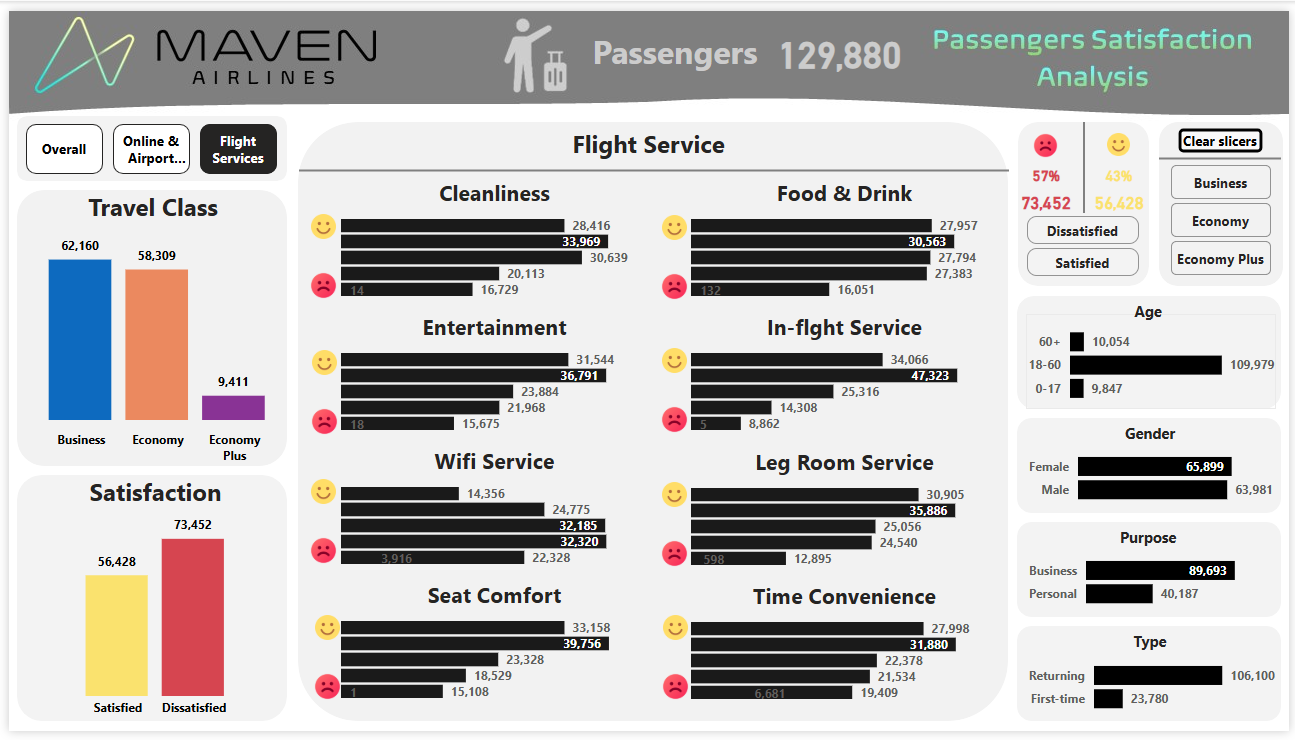

This screenshot's page, from the dashboard's own definition file:
{"tool":"powerbi","page":{"name":"Flight Services","canvas":[1280,720],"ordinal":2},"visuals":[{"type":"shape","box":[289,111,710,599],"z":1000},{"type":"shape","box":[8,179,270,276],"z":2000},{"type":"columnChart","title":"Travel Class","fields":{"Category":["Data.Class"],"Y":["_Measures.Total Passengers"]},"box":[0,179,289,276],"z":3000},{"type":"textbox","box":[505,111,270,48],"z":4000},{"type":"card","fields":{"Values":["_Measures.Total Passengers"]},"box":[751,12,159,58],"z":5000},{"type":"shape","box":[1008,615,264,95],"z":6000},{"type":"barChart","fields":{"Category":["Data.Customer Type"],"Y":["_Measures.Total Passengers"]},"box":[1017,625,250,95],"z":7000},{"type":"textbox","box":[1103,615,77,36],"z":8000},{"type":"shape","box":[1008,511,264,95],"z":9000},{"type":"shape","box":[1008,407,264,95],"z":10000},{"type":"shape","box":[1008,285,264,113],"z":11000},{"type":"barChart","fields":{"Category":["Data.Age Range"],"Y":["_Measures.Total Passengers"]},"box":[1017,303,250,95],"z":12000},{"type":"textbox","box":[1101,285,77,36],"z":13000},{"type":"barChart","fields":{"Category":["Data.Gender"],"Y":["_Measures.Total Passengers"]},"box":[1017,416,250,95],"z":14000},{"type":"textbox","box":[573,13,187,58],"z":15000},{"type":"textbox","box":[1101,511,77,36],"z":16000},{"type":"barChart","fields":{"Category":["Data.Type of Travel"],"Y":["_Measures.Total Passengers"]},"box":[1017,520,250,95],"z":17000},{"type":"textbox","box":[1104,407,75,36],"z":18000},{"type":"shape","box":[1150,111,124,164],"z":19000},{"type":"advancedSlicerVisual","fields":{"Values":["Data.Class"]},"box":[1159,151,106,119],"z":20000},{"type":"shape","box":[1009,111,131,164],"z":21000},{"type":"advancedSlicerVisual","fields":{"Values":["Data.Satisfaction"]},"box":[1015,202,118,68],"z":22000},{"type":"barChart","title":"Cleanliness","fields":{"Y":["_Measures.Total Passengers"],"Category":["Data.Cleanliness"]},"box":[331,166,310,120],"z":23000},{"type":"barChart","title":"Food & Drink","fields":{"Y":["_Measures.Total Passengers"],"Category":["Data.Food and Drink"]},"box":[681,166,310,120],"z":24000},{"type":"image","box":[653,204,25,25],"z":25000},{"type":"image","box":[652,262,28,27],"z":26000},{"type":"card","fields":{"Values":["_Measures.Satisfied"]},"box":[1065,178,90,30],"z":27000},{"type":"card","fields":{"Values":["_Measures.% Dissatisfied"]},"box":[997,151,80,30],"z":28000},{"type":"card","fields":{"Values":["_Measures.Dissatisfied"]},"box":[992,178,90,30],"z":29000},{"type":"card","fields":{"Values":["_Measures.% Satisfied"]},"box":[1070,151,80,30],"z":30000},{"type":"image","box":[1024,122,25,25],"z":31000},{"type":"image","box":[1098,122,23,23],"z":32000},{"type":"barChart","title":"Time Convenience","fields":{"Y":["_Measures.Total Passengers"],"Category":["Data.Time Convenience"]},"box":[681,569,310,120],"z":33000},{"type":"barChart","title":"Entertainment","fields":{"Y":["_Measures.Total Passengers"],"Category":["Data.In-flight Entertainment"]},"box":[331,300,310,120],"z":34000},{"type":"barChart","title":"Seat Comfort","fields":{"Y":["_Measures.Total Passengers"],"Category":["Data.Seat Comfort"]},"box":[331,568,310,120],"z":35000},{"type":"barChart","title":"In-flght Service","fields":{"Y":["_Measures.Total Passengers"],"Category":["Data.In-flight Service"]},"box":[681,300.3,310,120],"z":36000},{"type":"shape","box":[1047,111,56,91],"z":38000},{"type":"image","box":[653,337,25,25],"z":39000},{"type":"image","box":[652,395,28,27],"z":40000},{"type":"image","box":[654,604,25,25],"z":41000},{"type":"image","box":[653,662,28,27],"z":42000},{"type":"image","box":[306,604,25,25],"z":43000},{"type":"image","box":[305,662,28,27],"z":44000},{"type":"image","box":[303,339,25,25],"z":45000},{"type":"image","box":[302,397,28,27],"z":46000},{"type":"image","box":[302,203,25,25],"z":47000},{"type":"image","box":[301,261,28,27],"z":48000},{"type":"shape","box":[8,464,270,246],"z":49000},{"type":"columnChart","title":"Satisfaction","fields":{"Category":["Data.Satisfaction"],"Y":["_Measures.Total Passengers"]},"box":[8,464,278,246],"z":50000},{"type":"actionButton","box":[1164,112,95,35],"z":51000},{"type":"shape","box":[1150,136,122,23],"z":52000},{"type":"shape","box":[290,148,710,23],"z":53000},{"type":"shape","box":[8,105,270,65],"z":55000},{"type":"pageNavigator","box":[17,113,252,50],"z":55001},{"type":"barChart","title":"Wifi Service","fields":{"Y":["_Measures.Total Passengers"],"Category":["Data.In-flight Wifi Service"]},"box":[331,434,310,120],"z":55002},{"type":"barChart","title":"Leg Room Service","fields":{"Y":["_Measures.Total Passengers"],"Category":["Data.Leg Room Service"]},"box":[681,434.7,310,120],"z":55003},{"type":"image","box":[653,471,25,25],"z":55004},{"type":"image","box":[652,529,28,27],"z":55005},{"type":"image","box":[302,468,25,25],"z":55006},{"type":"image","box":[301,526,28,27],"z":55007}]}

Visuals, with their boxes in screenshot pixels (x1, y1, x2, y2), scaled from the page's 1280x720 canvas onto the 1295x740 screenshot:
shape: (292,114,1011,730)
shape: (8,184,281,468)
"Travel Class" columnChart: (0,184,292,468)
textbox: (511,114,784,163)
card - _Measures.Total Passengers: (760,12,921,72)
shape: (1020,632,1287,730)
barChart - Data.Customer Type x _Measures.Total Passengers: (1029,642,1282,739)
textbox: (1116,632,1194,669)
shape: (1020,525,1287,623)
shape: (1020,418,1287,516)
shape: (1020,293,1287,409)
barChart - Data.Age Range x _Measures.Total Passengers: (1029,311,1282,409)
textbox: (1114,293,1192,330)
barChart - Data.Gender x _Measures.Total Passengers: (1029,428,1282,525)
textbox: (580,13,769,73)
textbox: (1114,525,1192,562)
barChart - Data.Type of Travel x _Measures.Total Passengers: (1029,534,1282,632)
textbox: (1117,418,1193,455)
shape: (1163,114,1289,283)
advancedSlicerVisual - Data.Class: (1173,155,1280,278)
shape: (1021,114,1153,283)
advancedSlicerVisual - Data.Satisfaction: (1027,208,1146,278)
"Cleanliness" barChart: (335,171,649,294)
"Food & Drink" barChart: (689,171,1003,294)
image: (661,210,686,235)
image: (660,269,688,297)
card - _Measures.Satisfied: (1077,183,1169,214)
card - _Measures.% Dissatisfied: (1009,155,1090,186)
card - _Measures.Dissatisfied: (1004,183,1095,214)
card - _Measures.% Satisfied: (1083,155,1163,186)
image: (1036,125,1061,151)
image: (1111,125,1134,149)
"Time Convenience" barChart: (689,585,1003,708)
"Entertainment" barChart: (335,308,649,432)
"Seat Comfort" barChart: (335,584,649,707)
"In-flght Service" barChart: (689,309,1003,432)
shape: (1059,114,1116,208)
image: (661,346,686,372)
image: (660,406,688,434)
image: (662,621,687,646)
image: (661,680,689,708)
image: (310,621,335,646)
image: (309,680,337,708)
image: (307,348,332,374)
image: (306,408,334,436)
image: (306,209,331,234)
image: (305,268,333,296)
shape: (8,477,281,730)
"Satisfaction" columnChart: (8,477,289,730)
actionButton: (1178,115,1274,151)
shape: (1163,140,1287,163)
shape: (293,152,1012,176)
shape: (8,108,281,175)
pageNavigator: (17,116,272,168)
"Wifi Service" barChart: (335,446,649,569)
"Leg Room Service" barChart: (689,447,1003,570)
image: (661,484,686,510)
image: (660,544,688,571)
image: (306,481,331,507)
image: (305,541,333,568)
